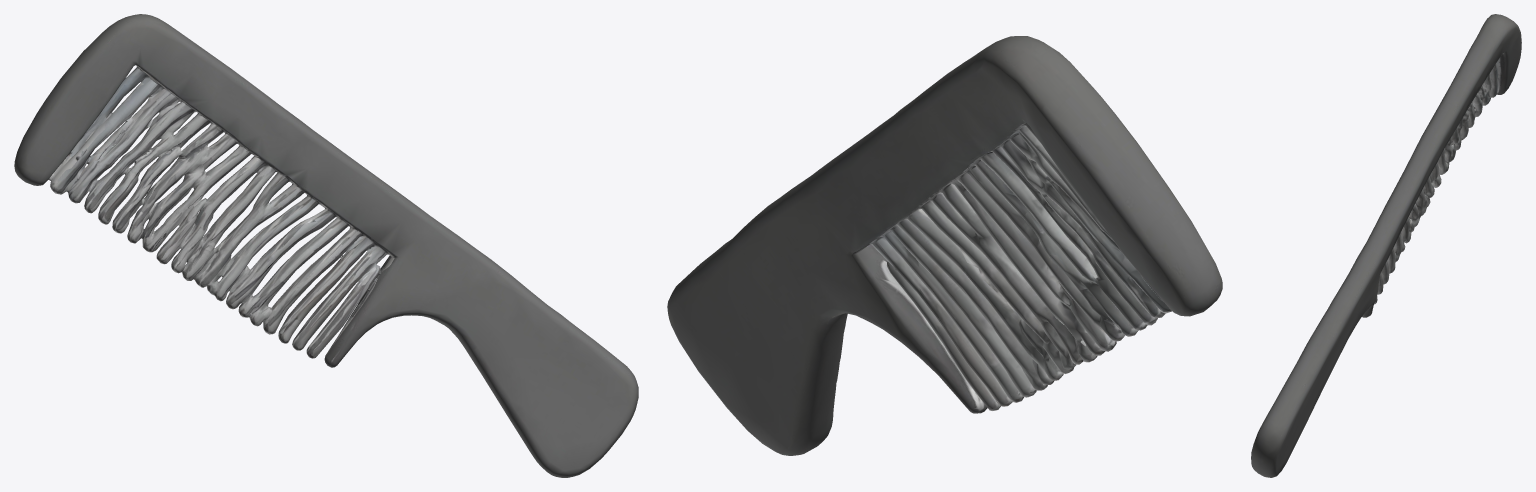
Rendered from comb_004.glb.
3 renders of one model, left to right at view 1: azimuth 30°, elevation 25°; view 2: azimuth 150°, elevation 25°; view 3: azimuth 270°, elevation 25°, orthographic. The views are drawn at different scales.
Parts seen in each view (by area): view 1: b27b7463-888d-4fdd-a48b-58d946728d80_texturing.obj; view 2: b27b7463-888d-4fdd-a48b-58d946728d80_texturing.obj; view 3: b27b7463-888d-4fdd-a48b-58d946728d80_texturing.obj.
Boxes of the visible parts, left/top/right/bottom form: b27b7463-888d-4fdd-a48b-58d946728d80_texturing.obj: left=14, top=14, right=638, bottom=477; b27b7463-888d-4fdd-a48b-58d946728d80_texturing.obj: left=667, top=36, right=1222, bottom=455; b27b7463-888d-4fdd-a48b-58d946728d80_texturing.obj: left=1251, top=14, right=1521, bottom=477.
Bounding box in the file's own units: 0.0585 × 0.05 × 0.0357.
1 material, 1 textured.
